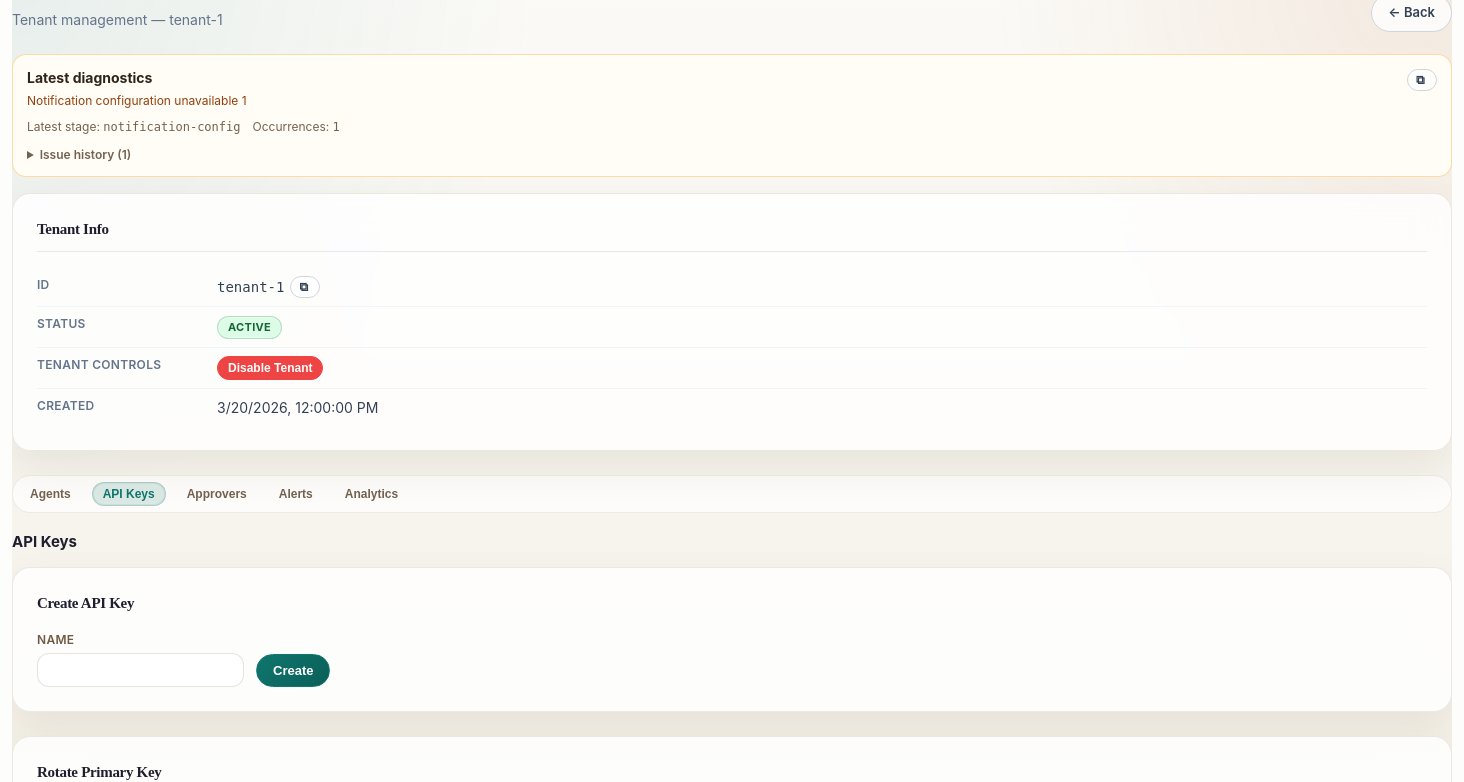
Tenant detail page › clears repeated notification diagnostics after a later successful refetch
Click the button "Agents" at x=50, y=494, box 19,482 -> 82,506
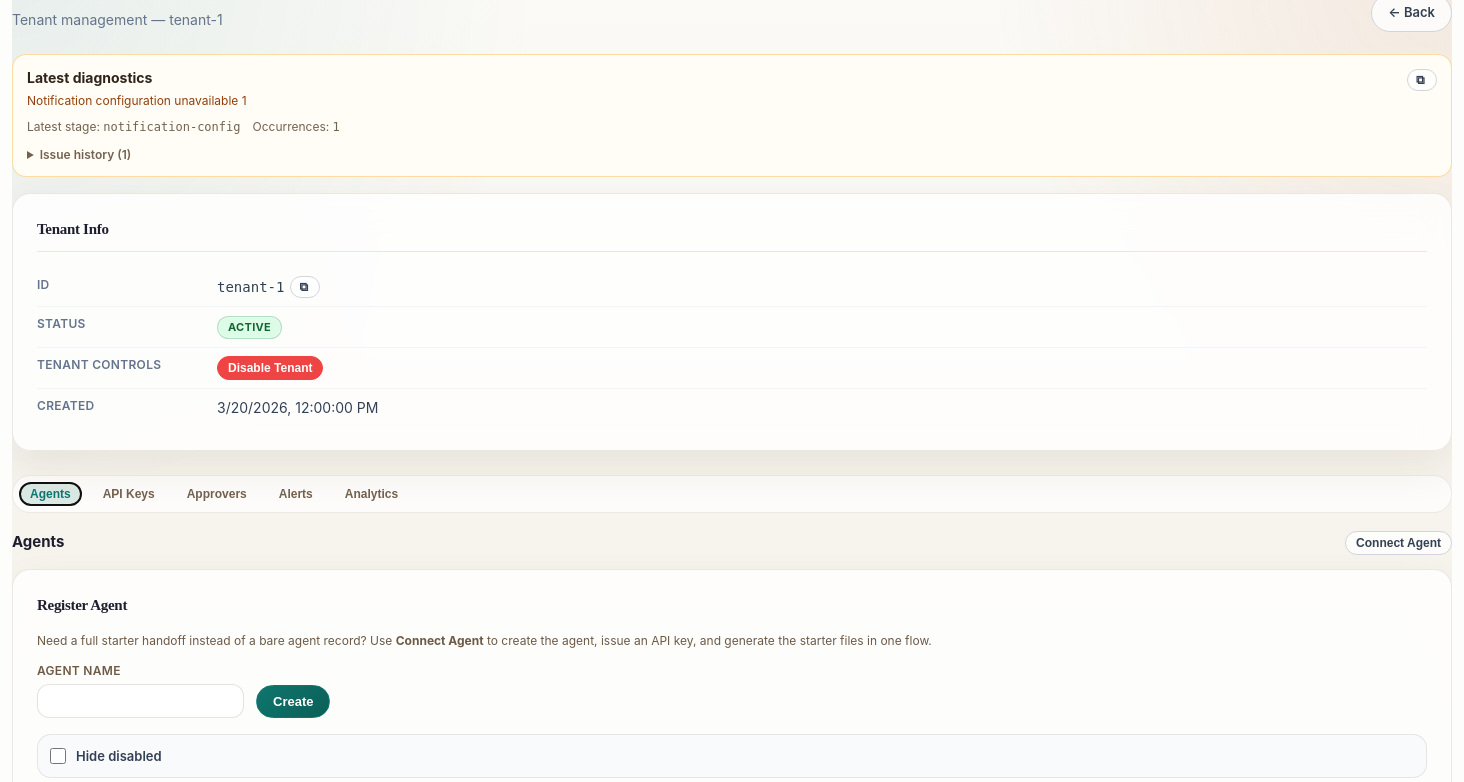
Click the checkbox labelled "Hide disabled" at x=58, y=756, box 50,748 -> 66,764
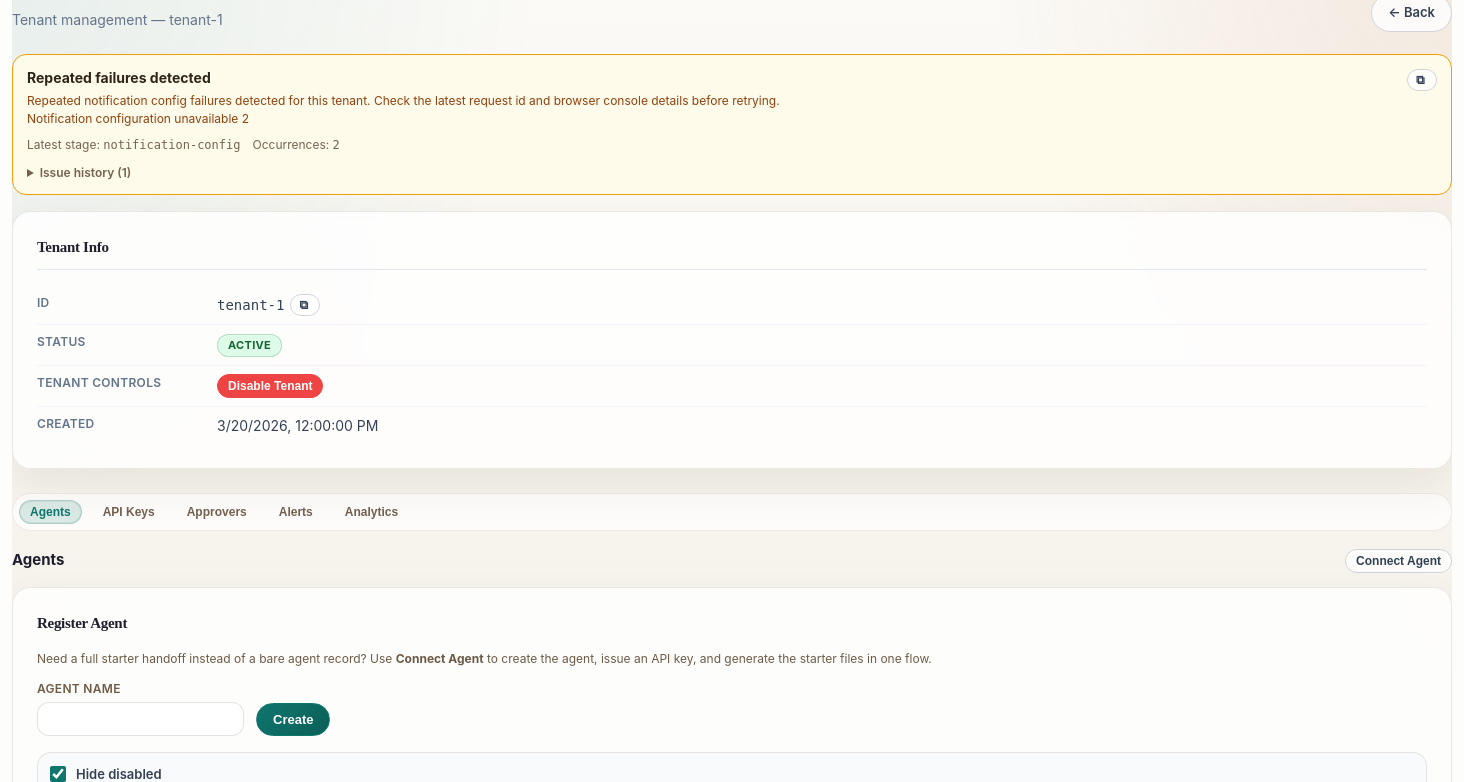
Click the button "API Keys" at x=129, y=512, box 92,500 -> 166,524
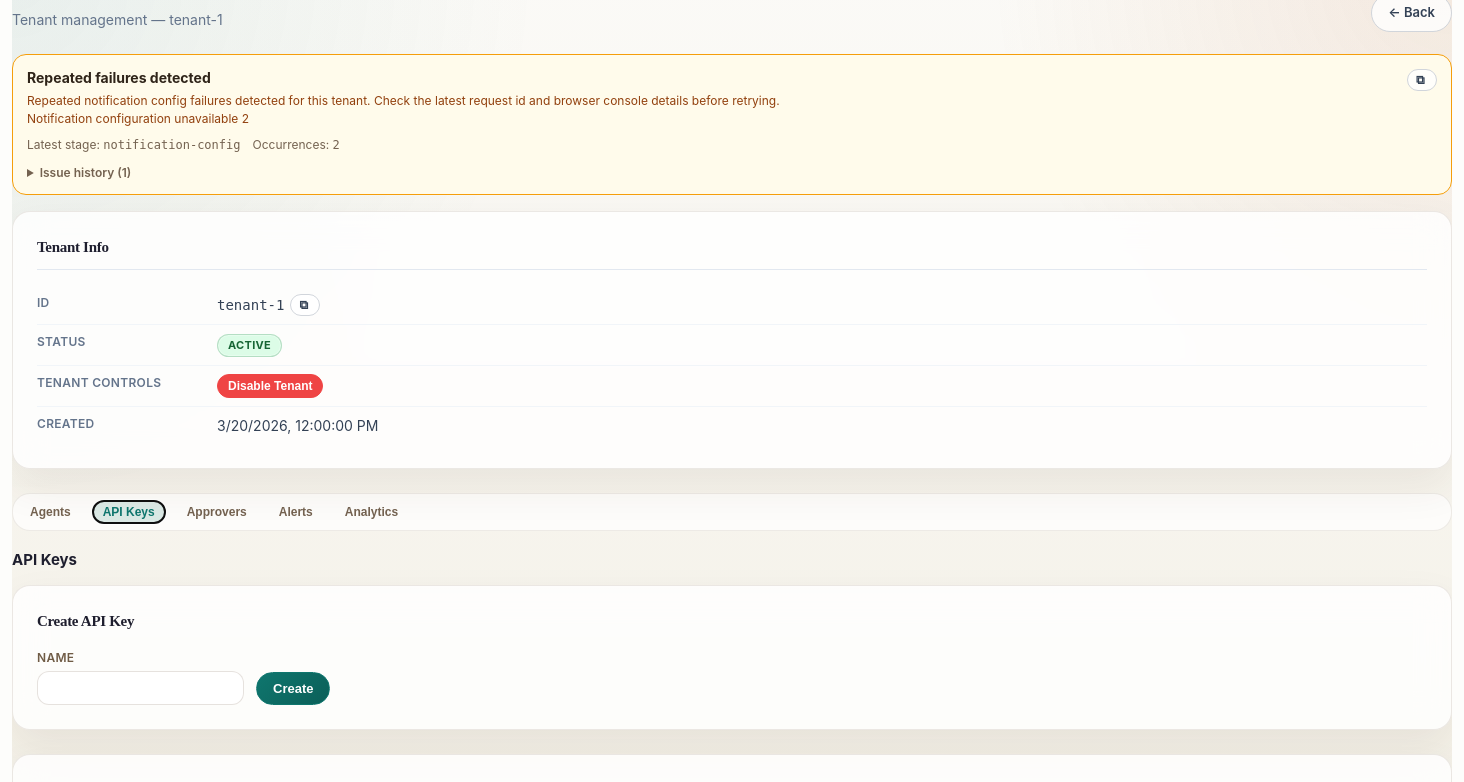
Check: the heading "Issue history (1)" is shown, box 40,165 -> 131,180
Check: the text "Notification configuration unavailable 2" is shown, box 27,111 -> 249,126
Check: the text "Repeated failures detected" is shown, box 27,67 -> 211,88
Click the button "Agents" at x=50, y=512, box 19,500 -> 82,524
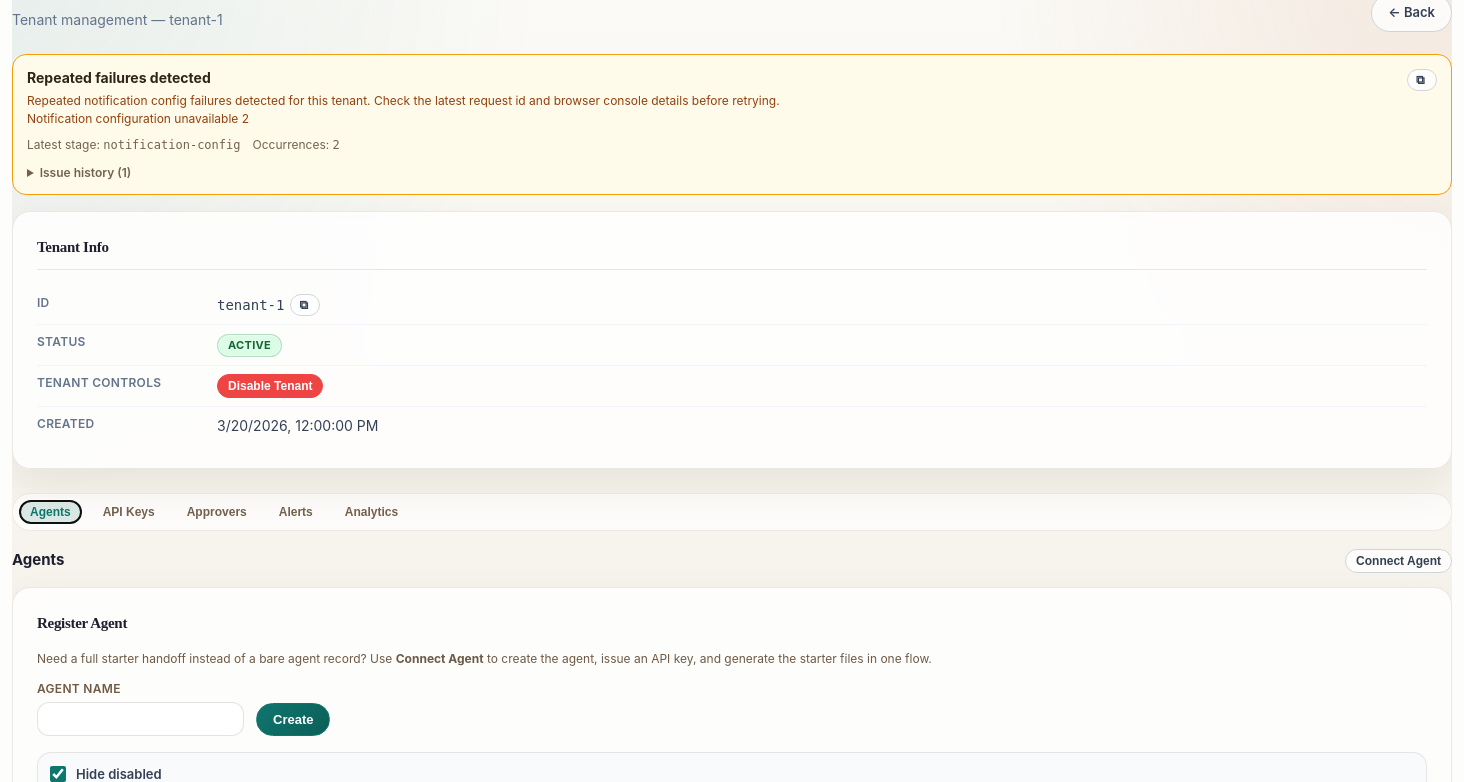
Click the checkbox labelled "Hide disabled" at x=58, y=774, box 50,766 -> 66,781
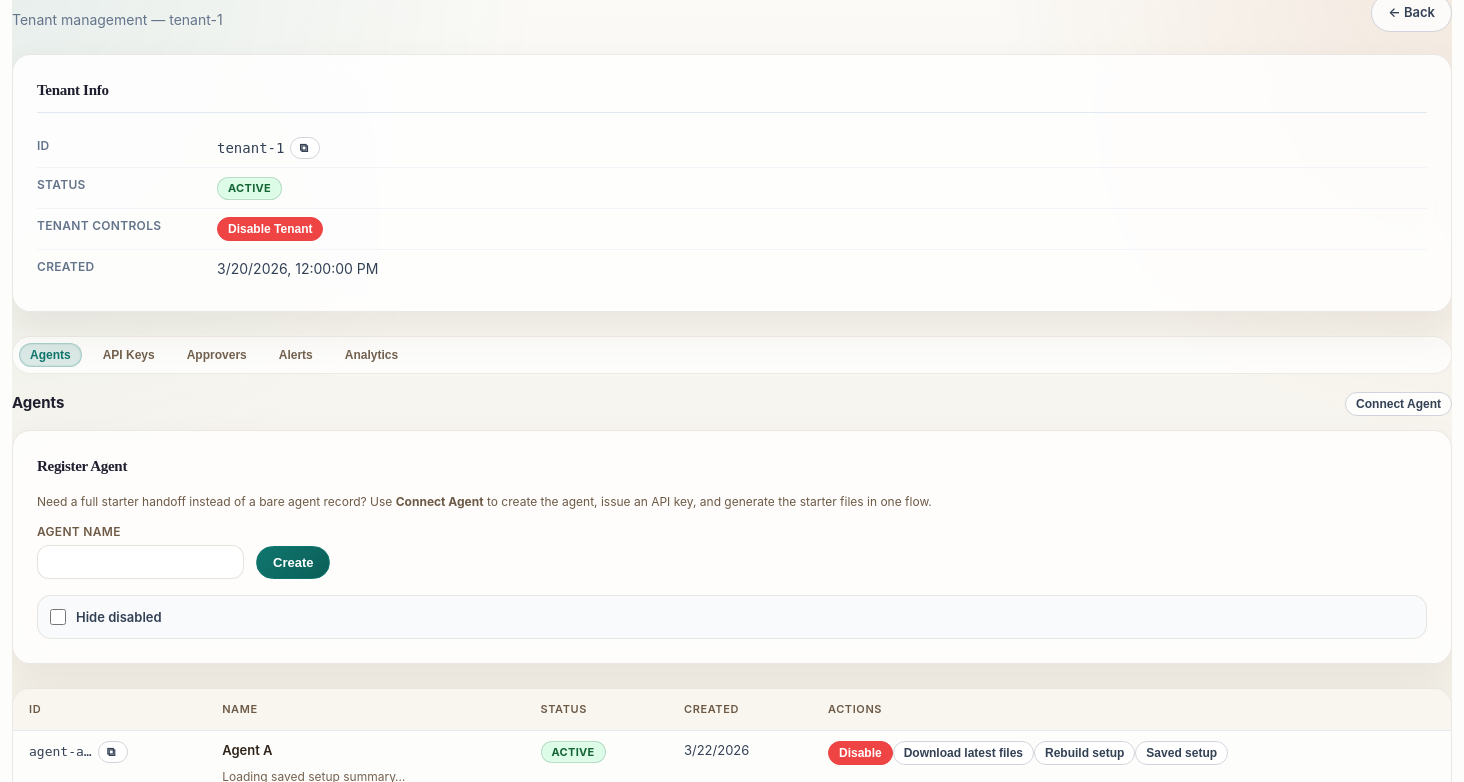
Click the button "API Keys" at x=129, y=354, box 92,342 -> 166,366
(page scrolled)
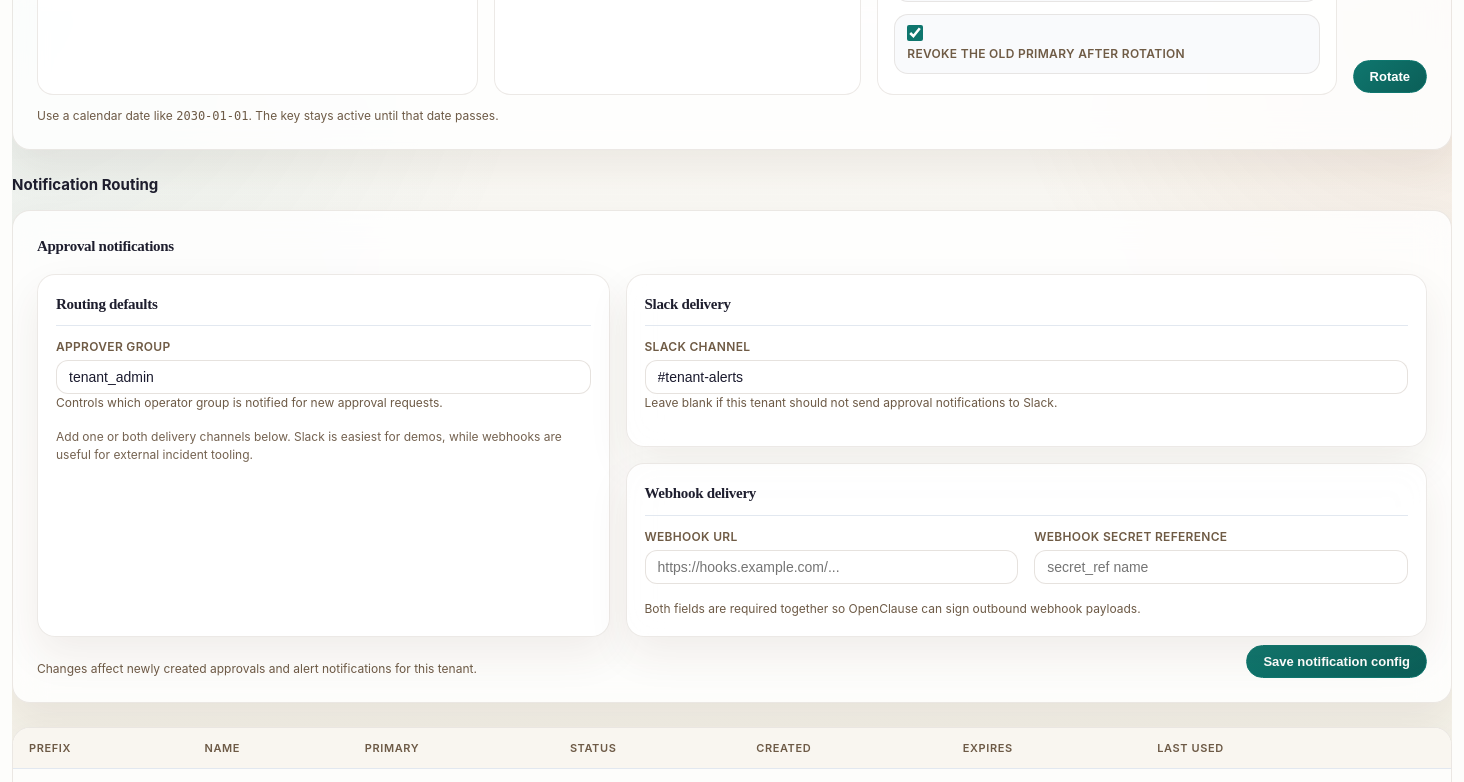
Check: the text "Repeated failures detected" is not shown
Check: the field showing "tenant_admin" is shown, box 56,360 -> 590,394
